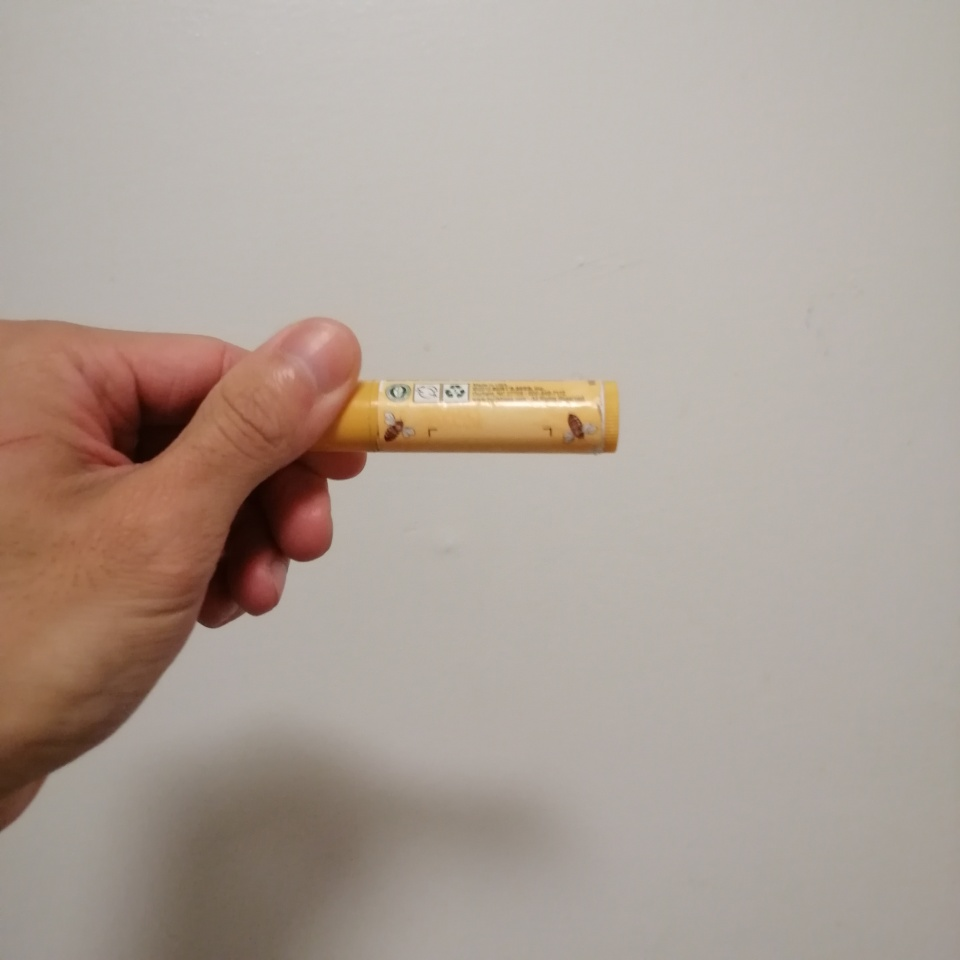chapstick: (303, 379, 621, 455)
